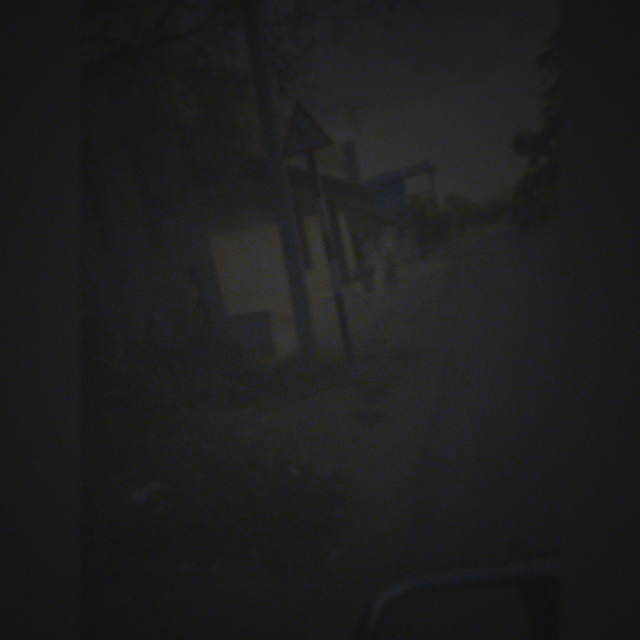Side_Road_Right: (275, 97, 338, 162)
